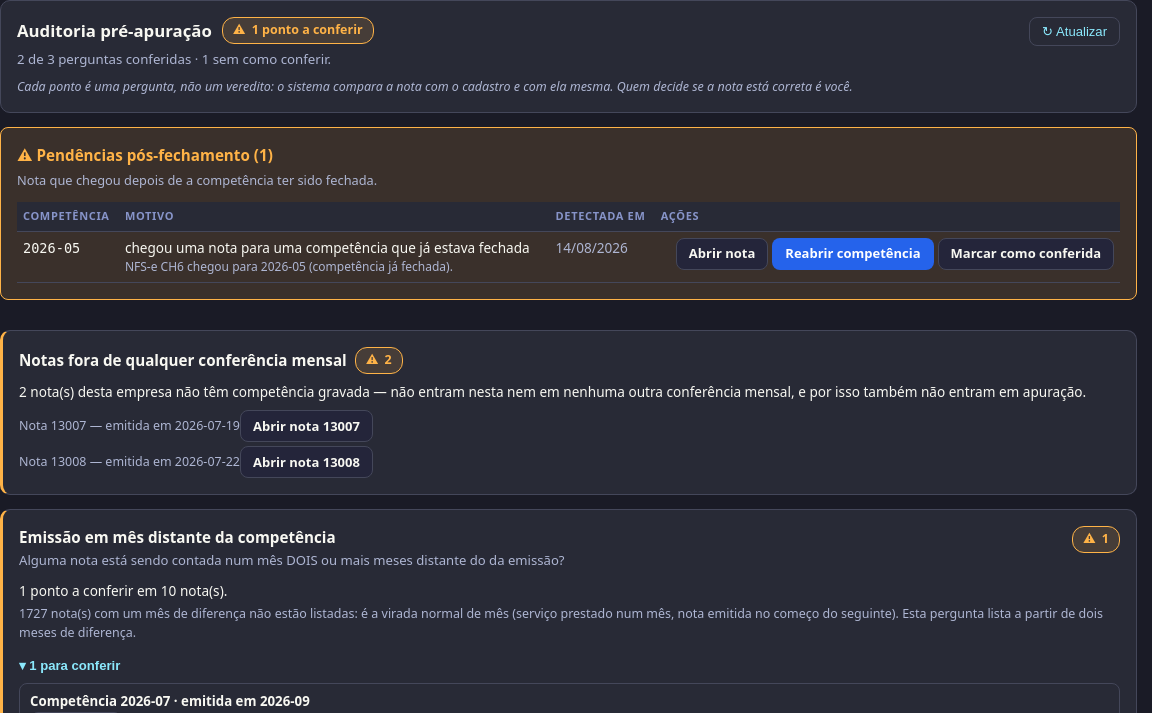
Scenario: reabrir exige motivo e confirmação explícita sem concluir pendência automaticamente
This screenshot has width=1152, height=713.
Click the button "Reabrir competência". click: (853, 254)
box: [772,238,934,270]
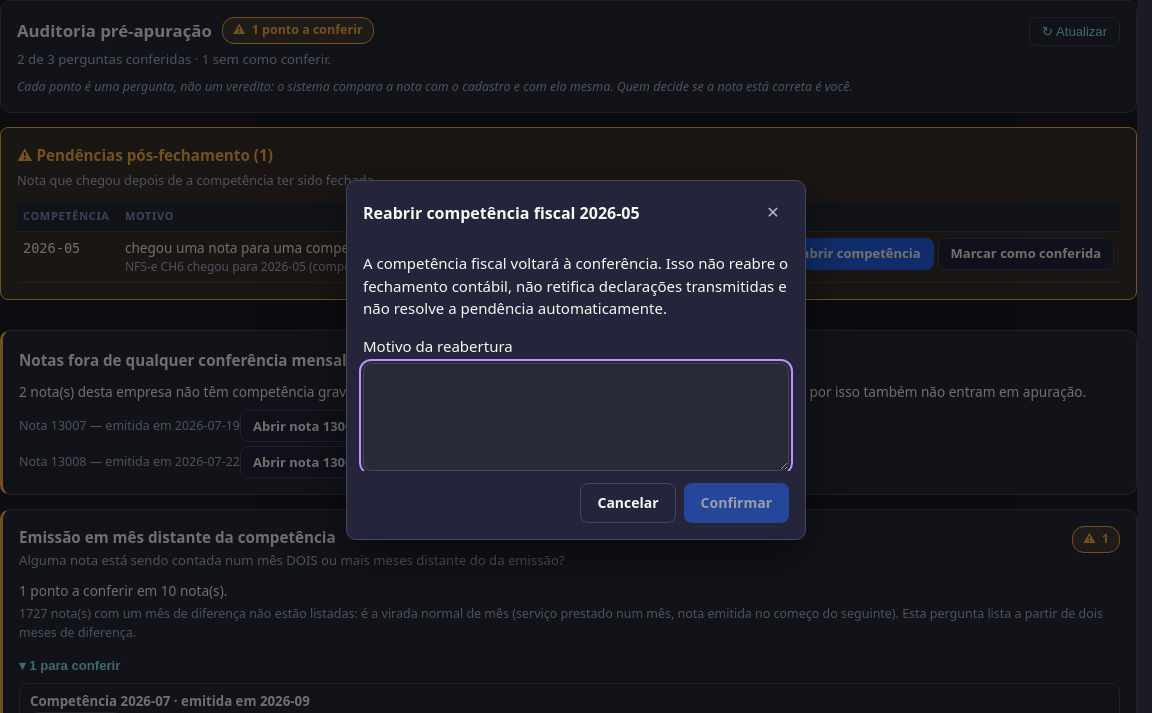
Result: the button "Confirmar" is disabled at [684,483,789,523]
Type "Conferir nota retroativa" into the text box labelled "Motivo da reabertura". click: (576, 417)
box: [363,363,789,471]
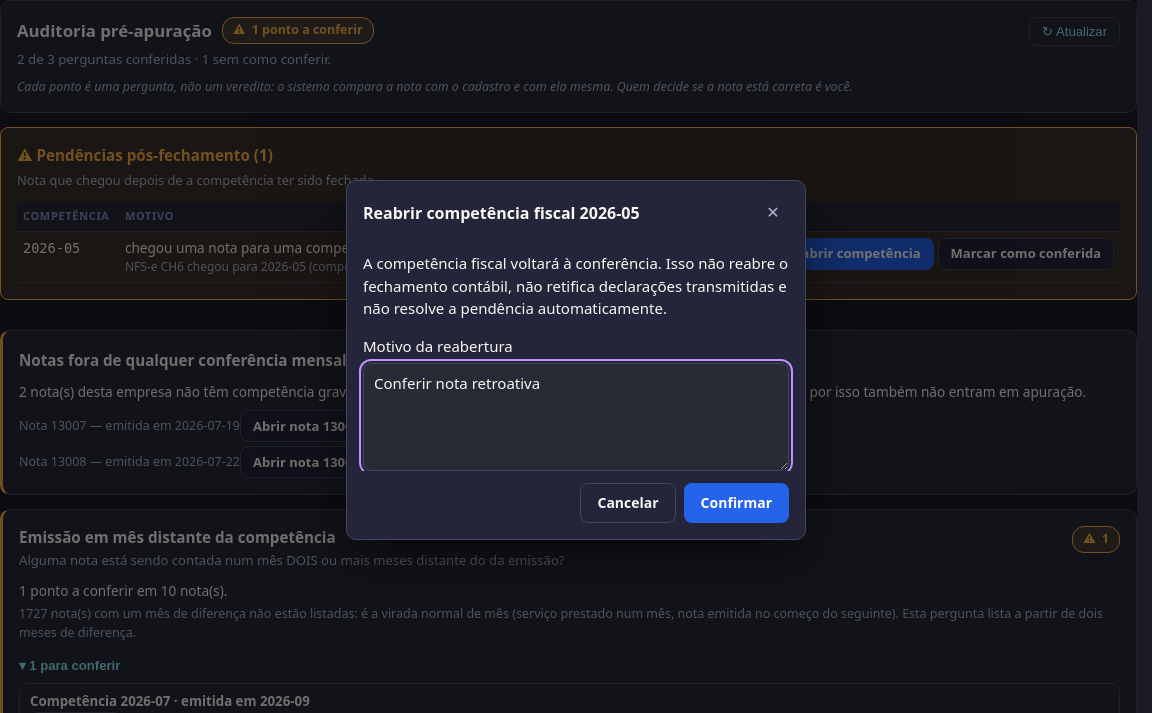
Click the button "Confirmar". click: (736, 503)
box: [684,483,789,523]
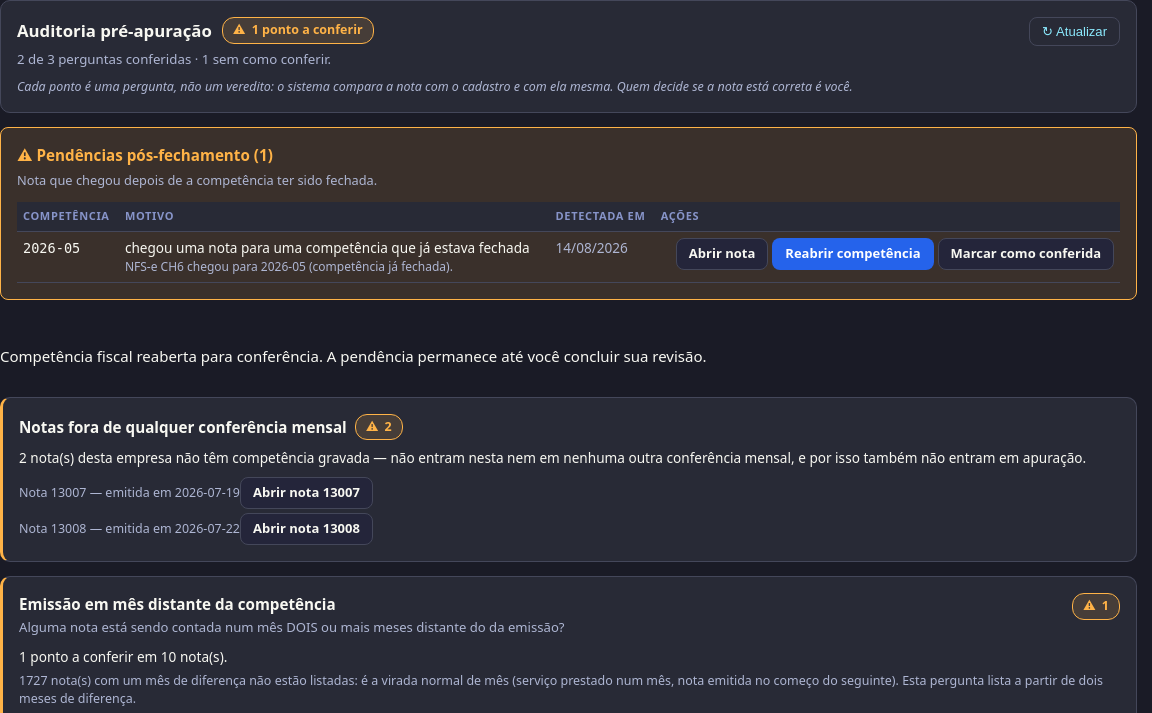
Result: the text "Competência fiscal reaberta para conferência" is shown at [0,346,706,366]
